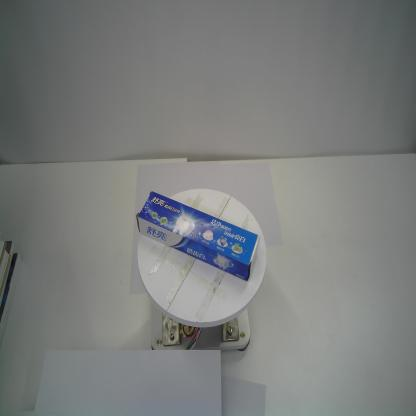Personal Hygiene: (135, 191, 260, 282)
